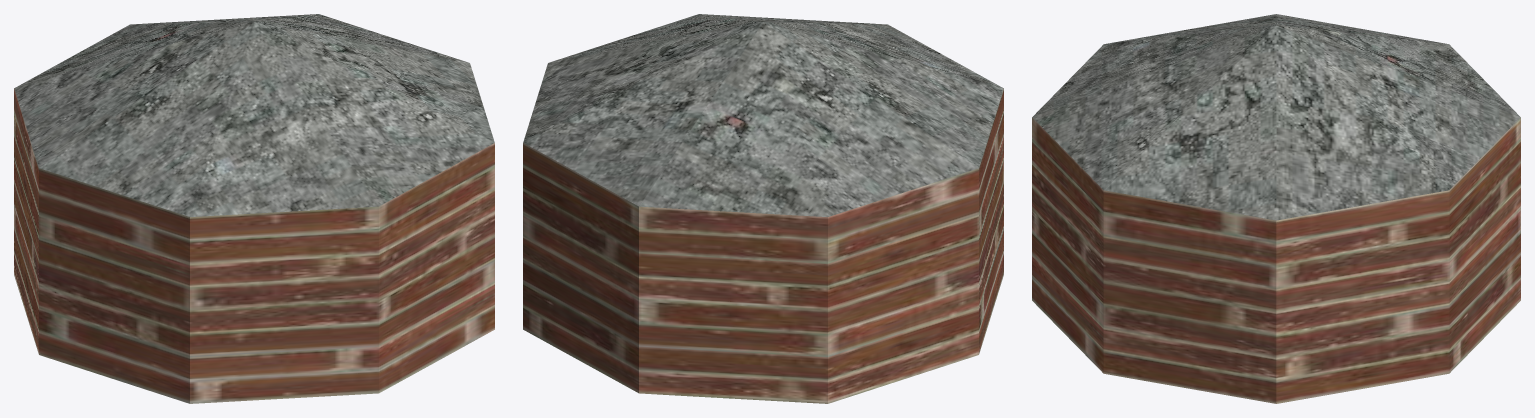
File: brick_tent.gltf
The picture shows the model from 3 angles, left to right: view 1: azimuth 30°, elevation 25°; view 2: azimuth 150°, elevation 25°; view 3: azimuth 270°, elevation 25°; orthographic projection.
Parts seen in each view (by area): view 1: Cylinder; view 2: Cylinder; view 3: Cylinder.
Part boxes in pixels (x1,y1,x2,y2): Cylinder: [14, 14, 494, 403]; Cylinder: [523, 14, 1003, 403]; Cylinder: [1032, 14, 1520, 403].
Bounding box in the file's own units: 2 × 1.24 × 2.
2 materials, 2 textured.
